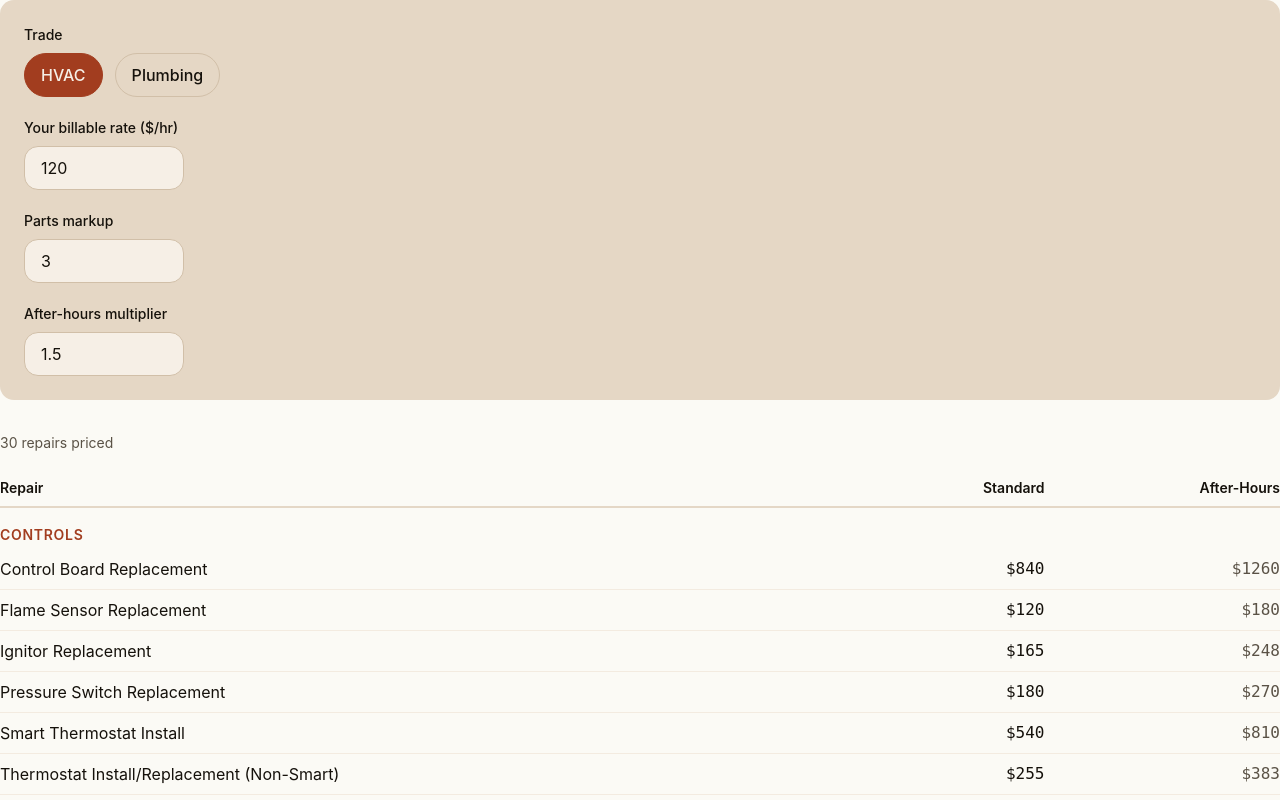
PricebookBuilder › trade selector › switches to Plumbing when Plumbing button is clicked
Click the button "Plumbing" at (167, 75), box [115,53,220,97]
(page scrolled)
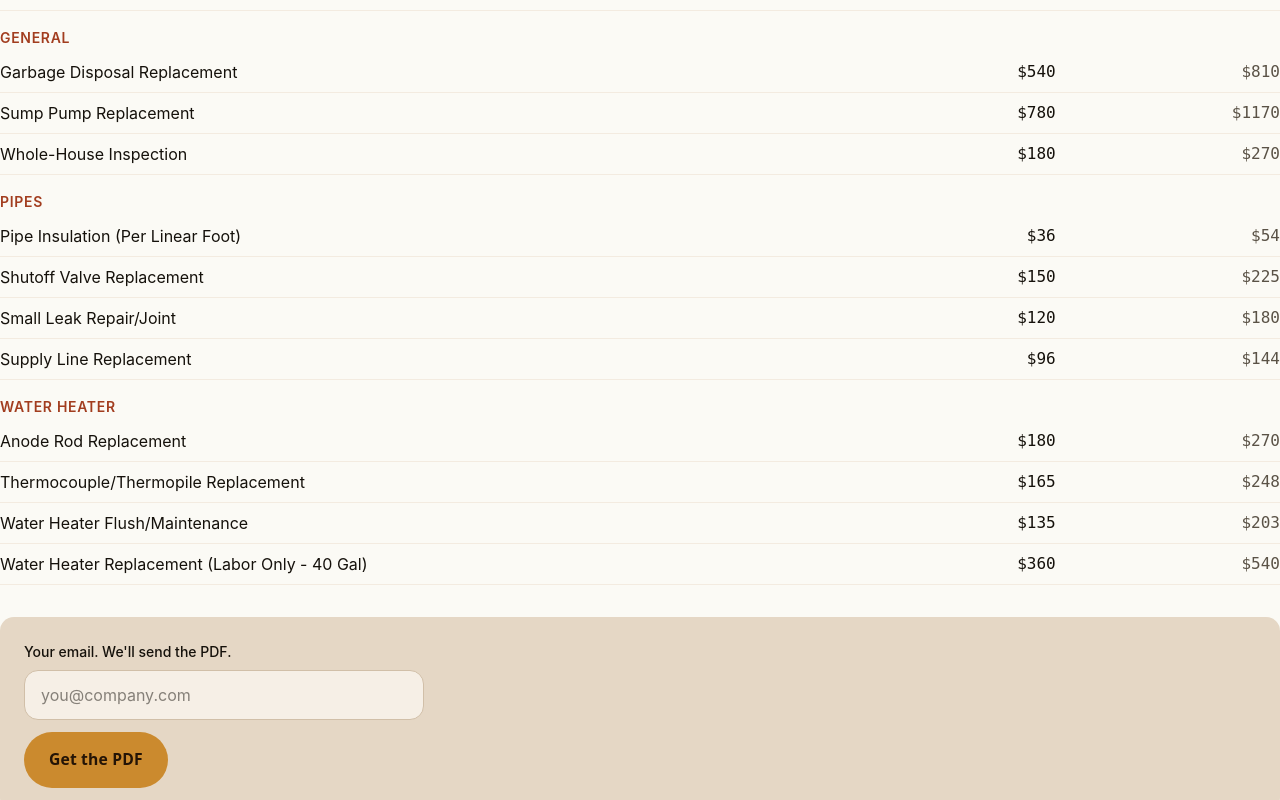
Check: the text "Water Heater" is shown, box [0,380,1279,421]
